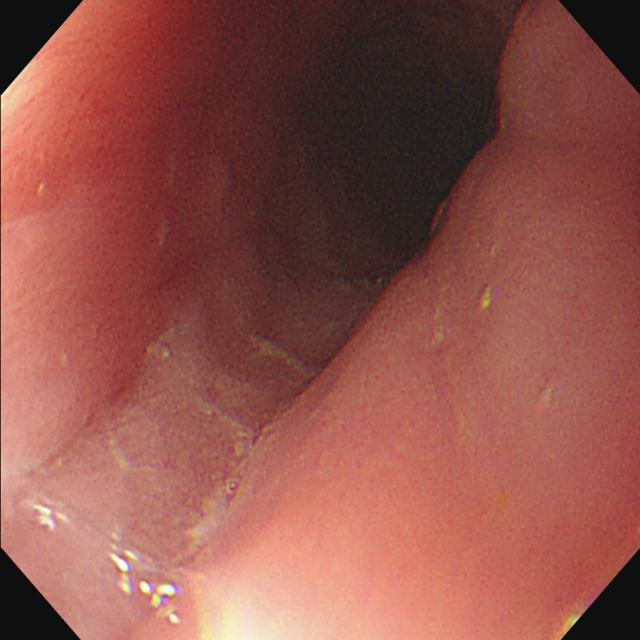E: (253, 27, 512, 292)
J: (108, 330, 310, 555)
U: (106, 551, 178, 625), (26, 504, 71, 534)
